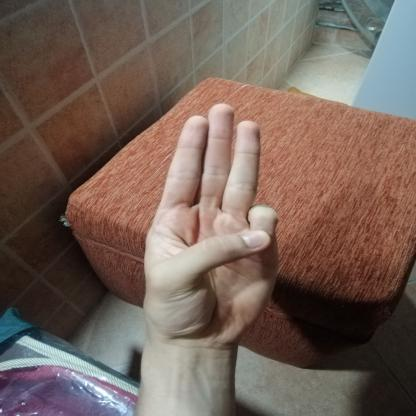THA: (129, 91, 290, 363)
